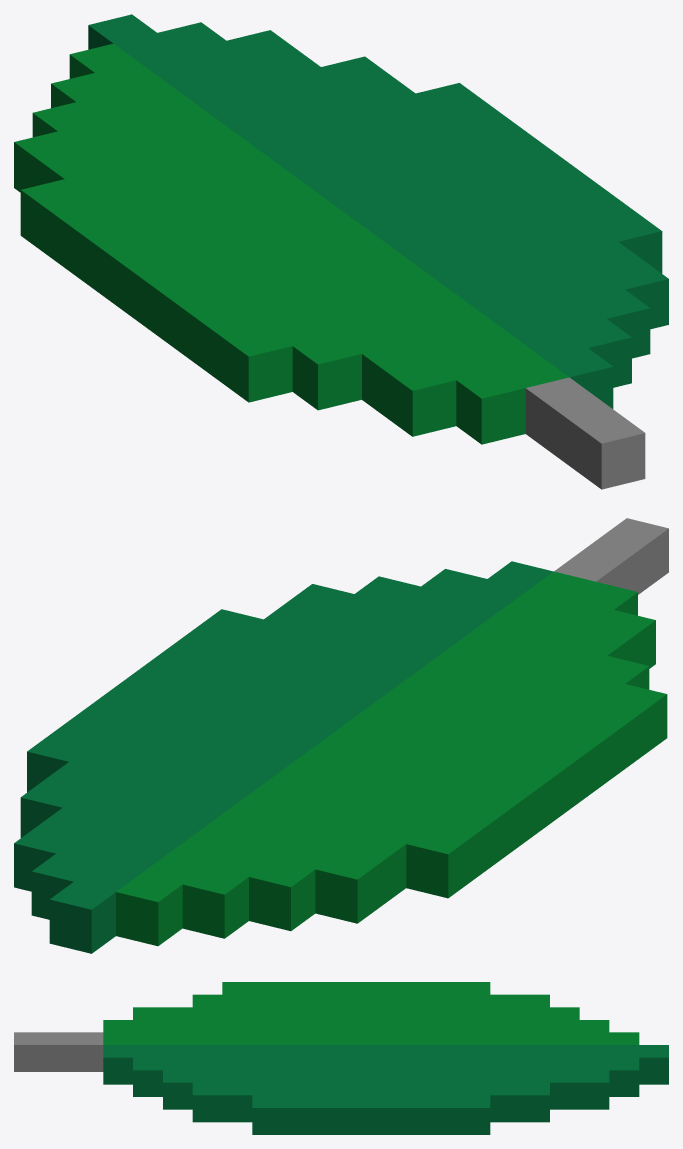
The model's file is leaf.obj.
3 views of the same model, one above another, from view 1: azimuth 30°, elevation 25°; view 2: azimuth 150°, elevation 25°; view 3: azimuth 270°, elevation 25° (orthographic). The views are drawn at different scales.
Bounding box in the file's own units: 1 × 0.1 × 2.2.
Materials: 1 (1 with a texture image).
